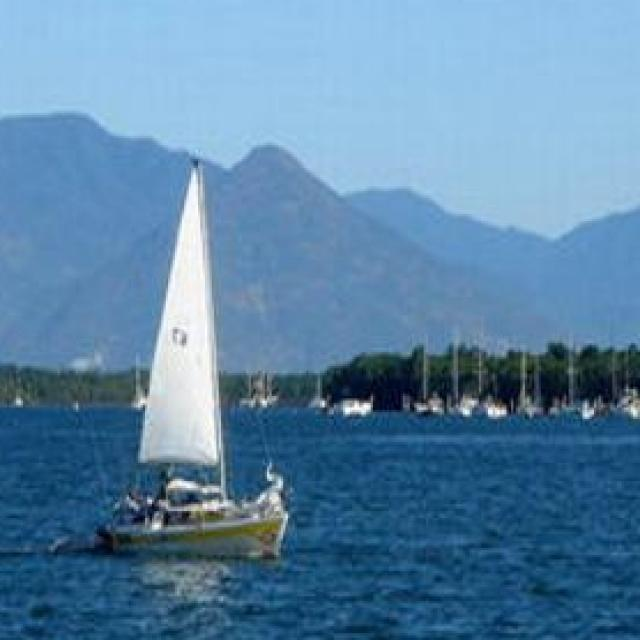sailboat: (92, 145, 289, 556)
